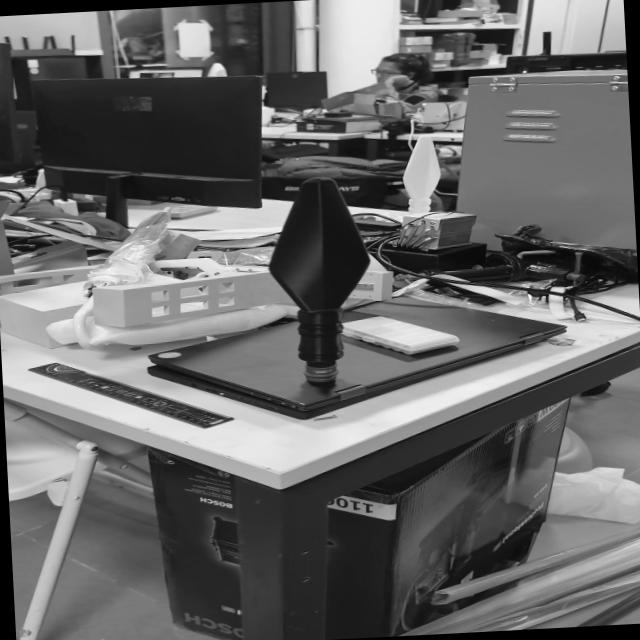base: (299, 362, 344, 387)
